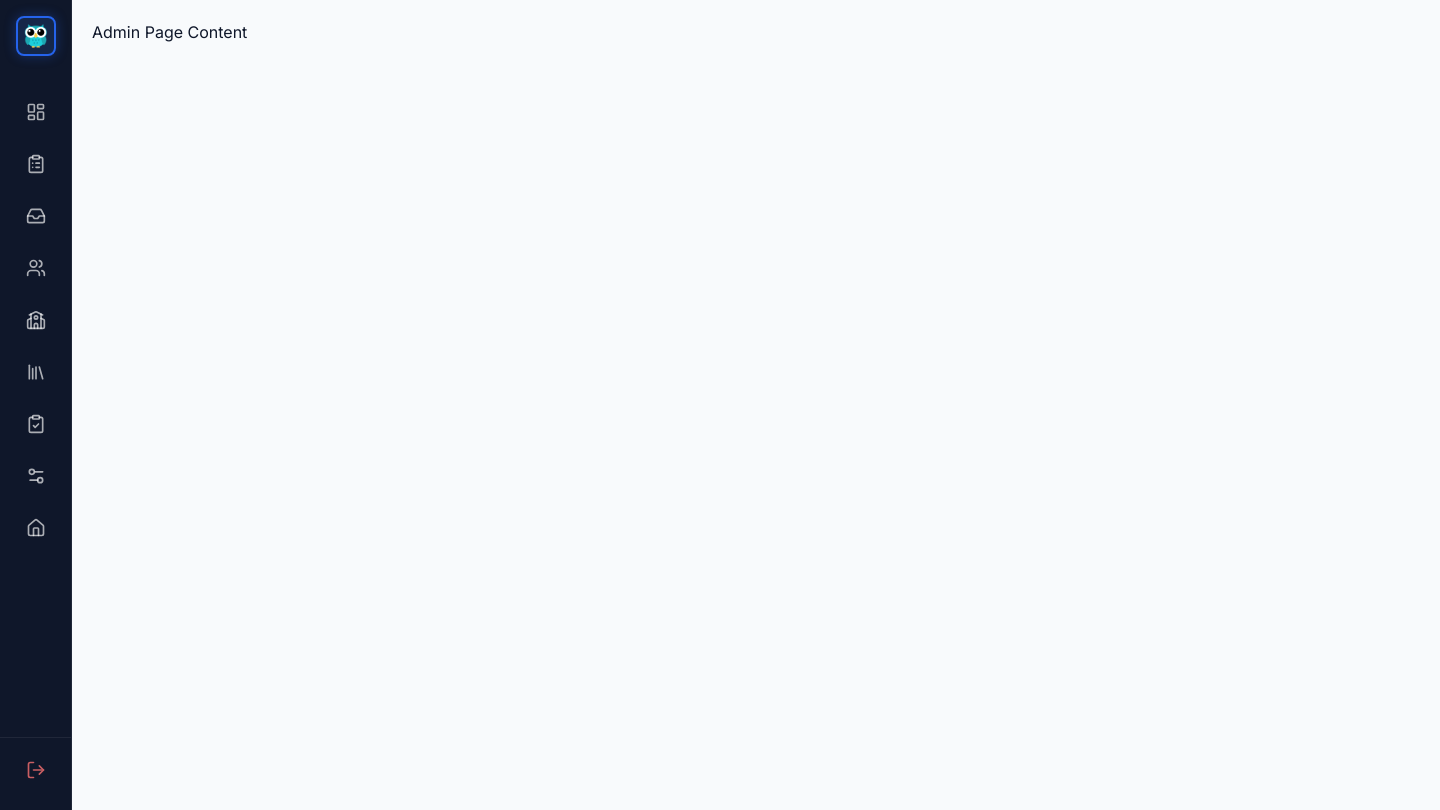
Test: AdminLayout logout › signs out and returns to the landing page through the router
The image size is (1440, 810).
Click the button named "Logout" at (36, 770), box [12,746,60,794]
(page scrolled)
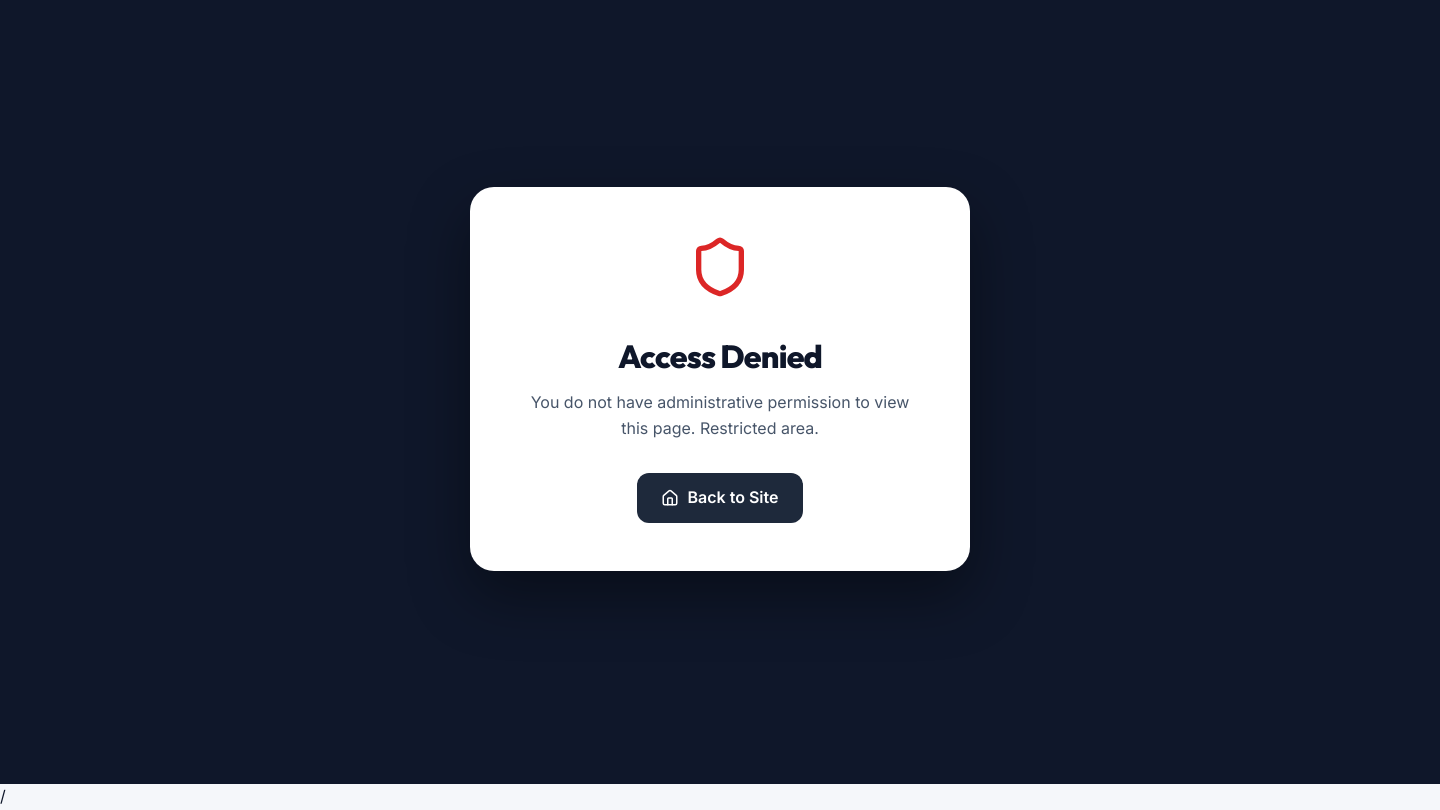
Now the text with test id "location" reads "/", box [0,786,6,806]
